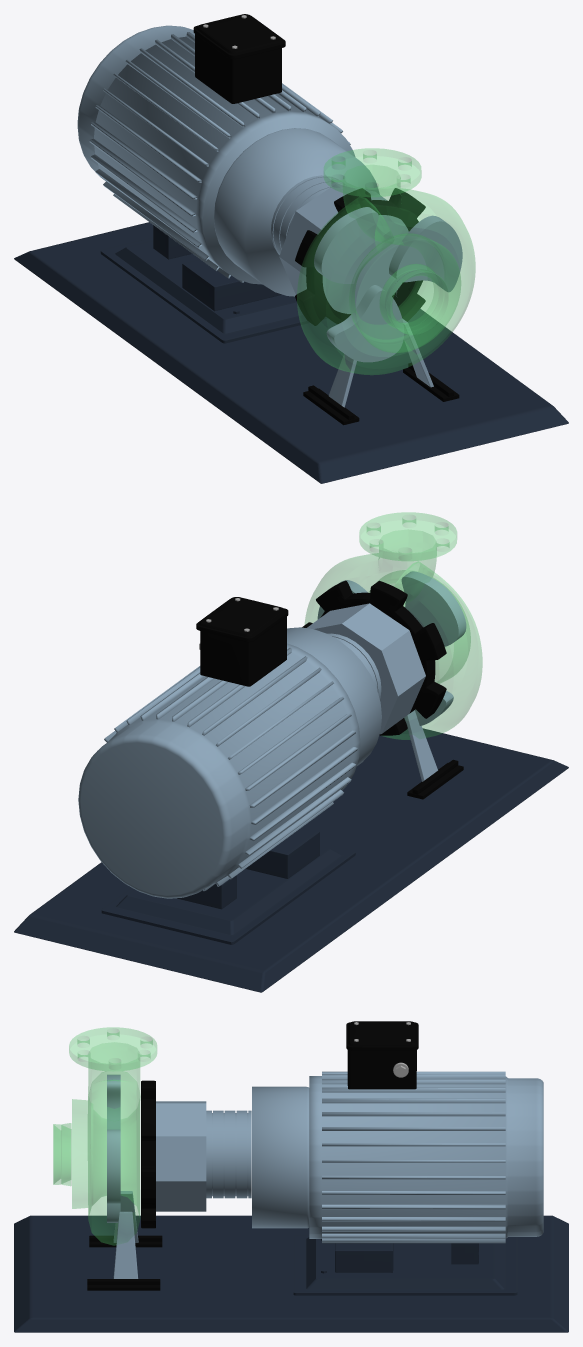
The model's file is 冷却泵.glb.
3 renders of one model, top to bottom at view 1: azimuth 30°, elevation 25°; view 2: azimuth 150°, elevation 25°; view 3: azimuth 270°, elevation 25°, orthographic. The views are drawn at different scales.
Visible parts, largest first — view 1: 立方体042, 柱体044, 柱体036, 立方体043, 柱体037, 立方体050, 柱体034, Gear001, 柱体035, 柱体044_1, 立方体049, 立方体047; view 2: 立方体042, 柱体036, 柱体044, 立方体050, 柱体034, Gear001, 柱体037, 立方体043, 立方体049, 柱体044_1, 柱体035; view 3: 立方体042, 柱体036, 柱体044, 柱体037, 柱体034, 立方体050, 柱体035, Gear001, 立方体043, 立方体047, 柱体044_1, 立方体049 (+2 smaller).
Boxes of the visible parts, <box> form: 立方体042: <box>14,222,568,483</box>; 柱体044: <box>297,148,475,374</box>; 柱体036: <box>77,25,355,284</box>; 立方体043: <box>314,207,462,362</box>; 柱体037: <box>214,128,379,296</box>; 立方体050: <box>193,14,285,103</box>; 柱体034: <box>279,184,408,313</box>; Gear001: <box>295,188,425,325</box>; 柱体035: <box>271,175,346,254</box>; 柱体044_1: <box>331,150,411,194</box>; 立方体049: <box>328,354,356,407</box>; 立方体047: <box>402,319,433,387</box>; 立方体042: <box>14,728,568,992</box>; 柱体036: <box>78,643,360,898</box>; 柱体044: <box>305,512,482,739</box>; 立方体050: <box>196,597,288,686</box>; 柱体034: <box>306,603,425,734</box>; Gear001: <box>302,580,446,735</box>; 柱体037: <box>287,627,381,765</box>; 立方体043: <box>317,571,466,725</box>; 立方体049: <box>404,710,437,781</box>; 柱体044_1: <box>367,515,449,560</box>; 柱体035: <box>327,633,381,699</box>; 立方体042: <box>14,1215,568,1332</box>; 柱体036: <box>309,1071,543,1243</box>; 柱体044: <box>53,1027,156,1245</box>; 柱体037: <box>252,1086,309,1228</box>; 柱体034: <box>156,1101,206,1211</box>; 立方体050: <box>346,1021,418,1089</box>; 柱体035: <box>206,1110,251,1198</box>; Gear001: <box>141,1080,155,1228</box>; 立方体043: <box>107,1074,120,1222</box>; 立方体047: <box>113,1211,138,1278</box>; 柱体044_1: <box>77,1028,152,1069</box>; 立方体049: <box>113,1191,138,1242</box>.
Size of the model in its own units: 43.89 by 46.06 by 94.14.
